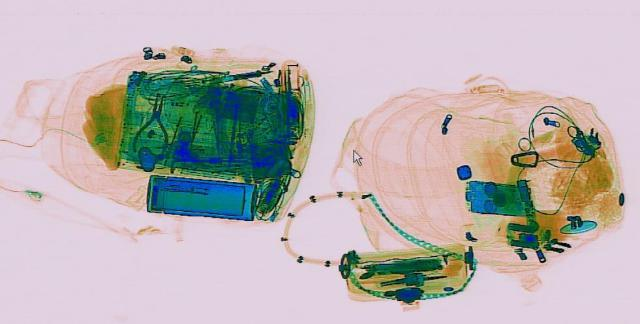Pliers: (128, 90, 178, 155)
